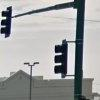Traffic light: (44, 33, 76, 77)
